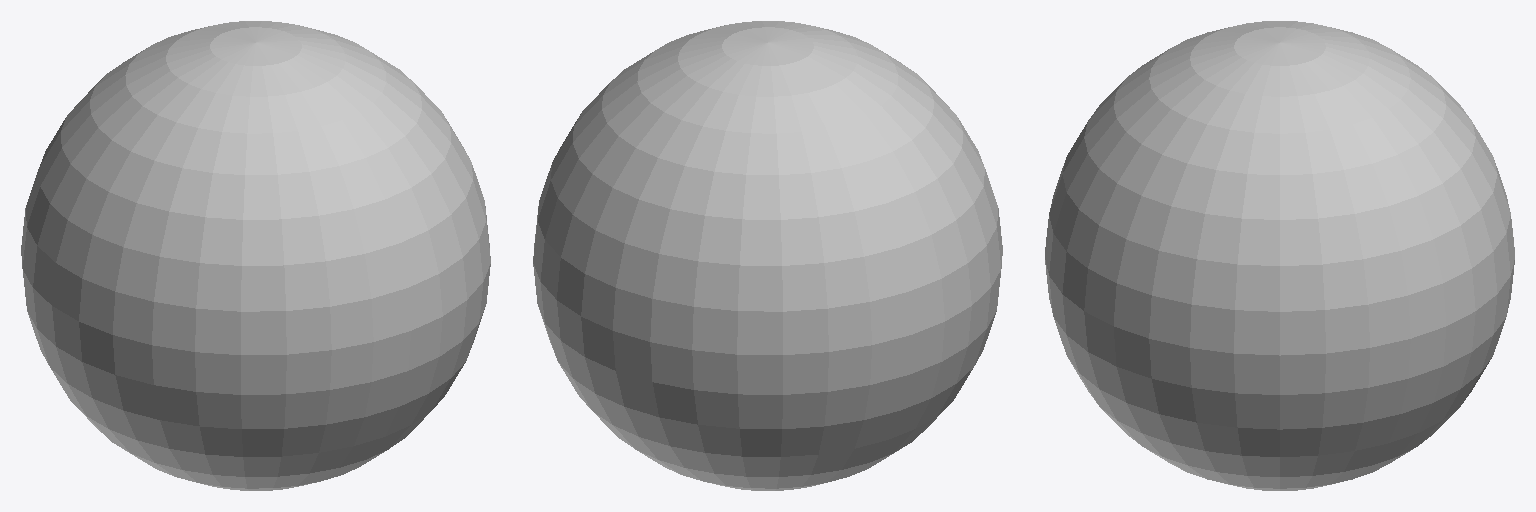
File: bola.obj
The picture shows the model from 3 angles: view 1: azimuth 30°, elevation 25°; view 2: azimuth 150°, elevation 25°; view 3: azimuth 270°, elevation 25°; orthographic projection.
Parts seen in each view (by area): view 1: Sphere; view 2: Sphere; view 3: Sphere.
Boxes of the visible parts, box(x1,y1,x2,y2) form: Sphere: box(21, 21, 490, 490); Sphere: box(533, 21, 1002, 490); Sphere: box(1045, 21, 1514, 490).
Size of the model in its own units: 2 by 2 by 2.